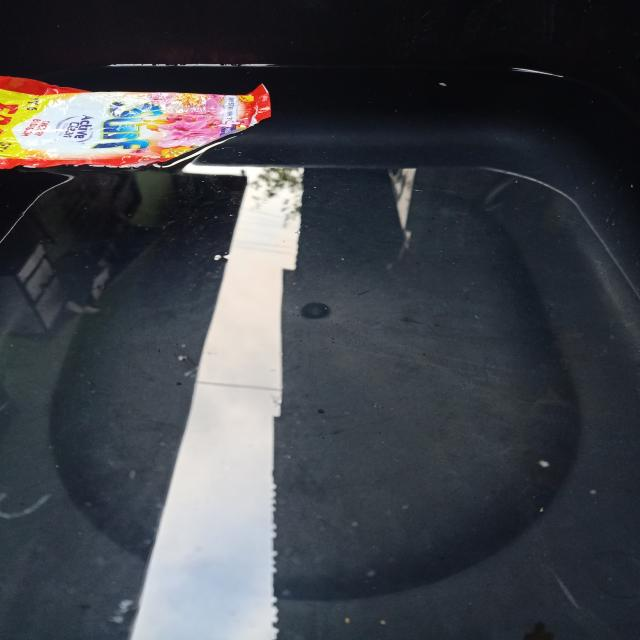Plastic Wrapper: (0, 77, 271, 169)
